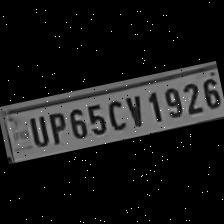1: (140, 86, 164, 124)
2: (178, 79, 204, 116)
5: (82, 98, 108, 136)
6: (62, 105, 89, 142), (196, 74, 222, 111)
9: (158, 82, 184, 120)
C: (101, 94, 128, 132)
P: (44, 108, 68, 146)
U: (24, 112, 50, 148)
V: (120, 91, 148, 130)
